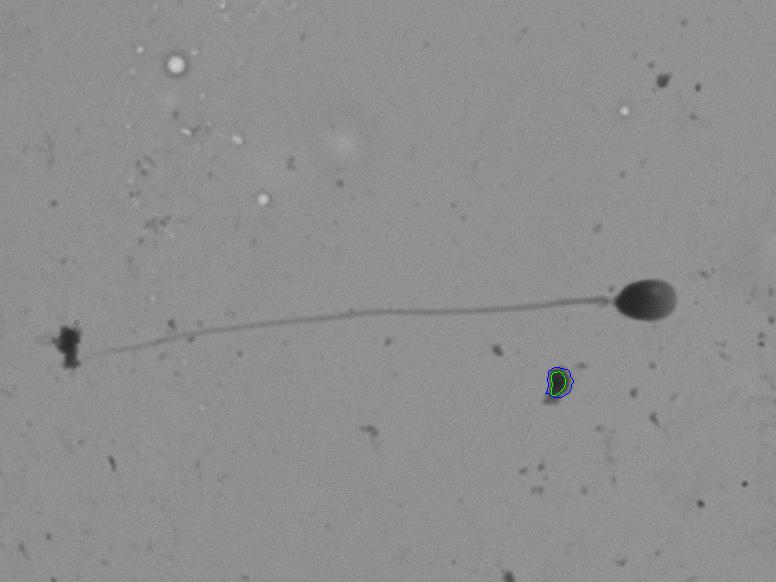Normal: (78, 219, 717, 368)
